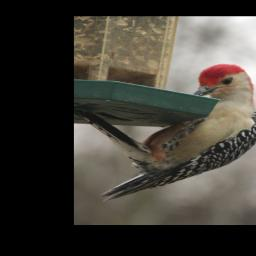Woodpecker: (97, 63, 256, 206)
